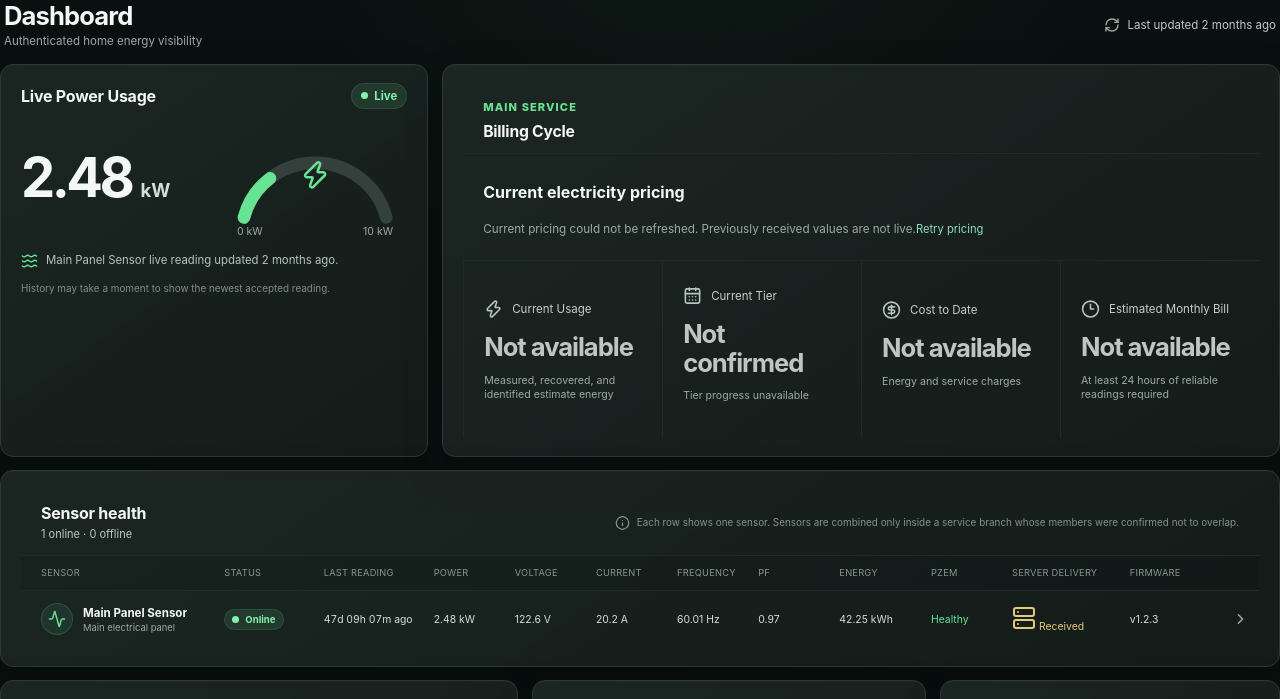
Test: Home › shows stateless delivery details and only the supported sensor commands
The image size is (1280, 699).
Click the button named "Open Main Panel Sensor sensor details" at (1240,619), box [1222,597,1258,641]
(page scrolled)
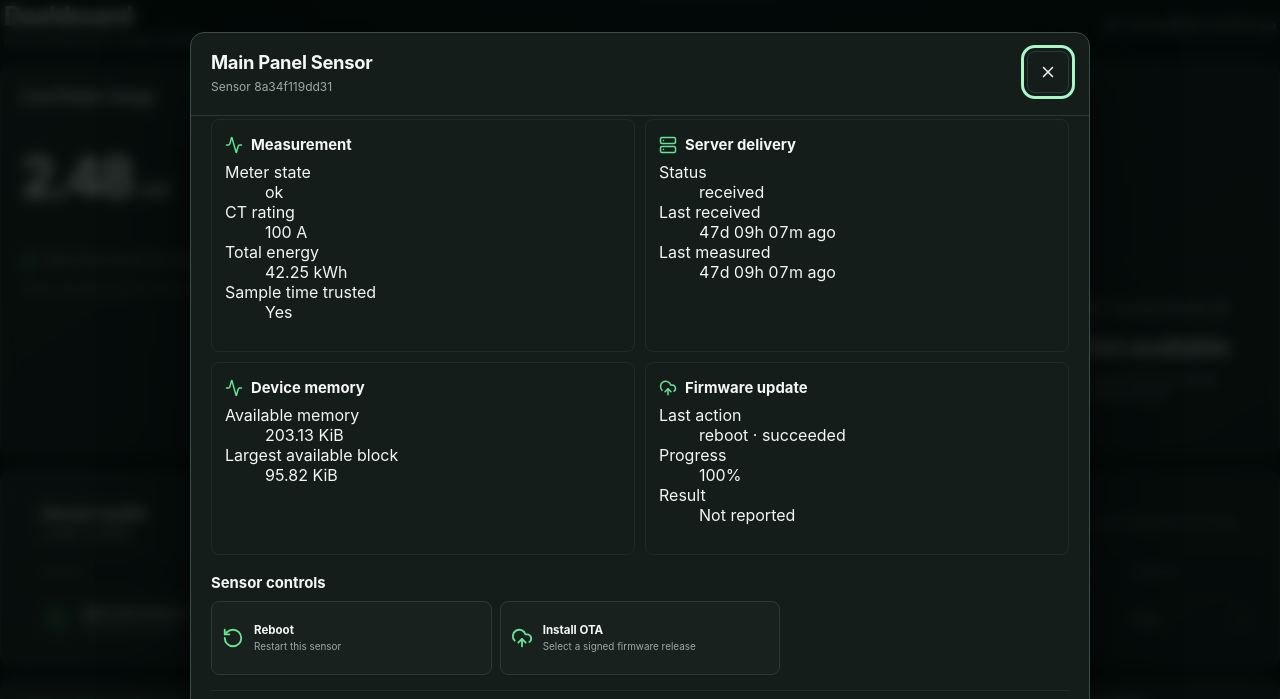
Check: the heading "Server delivery" is shown, box [659,133,796,157]
Check: the button "Reboot Restart this sensor" is shown, box [211,601,492,675]
Check: the link "Install OTA Select a signed firmware release" is shown, box [500,601,780,675]
